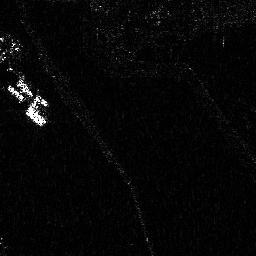ship: (7, 85, 24, 103)
